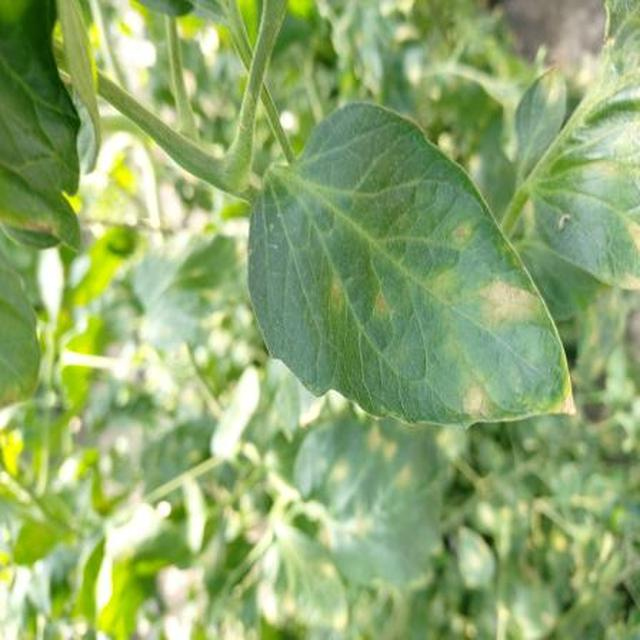Leaf Mold: (354, 147, 640, 612)
